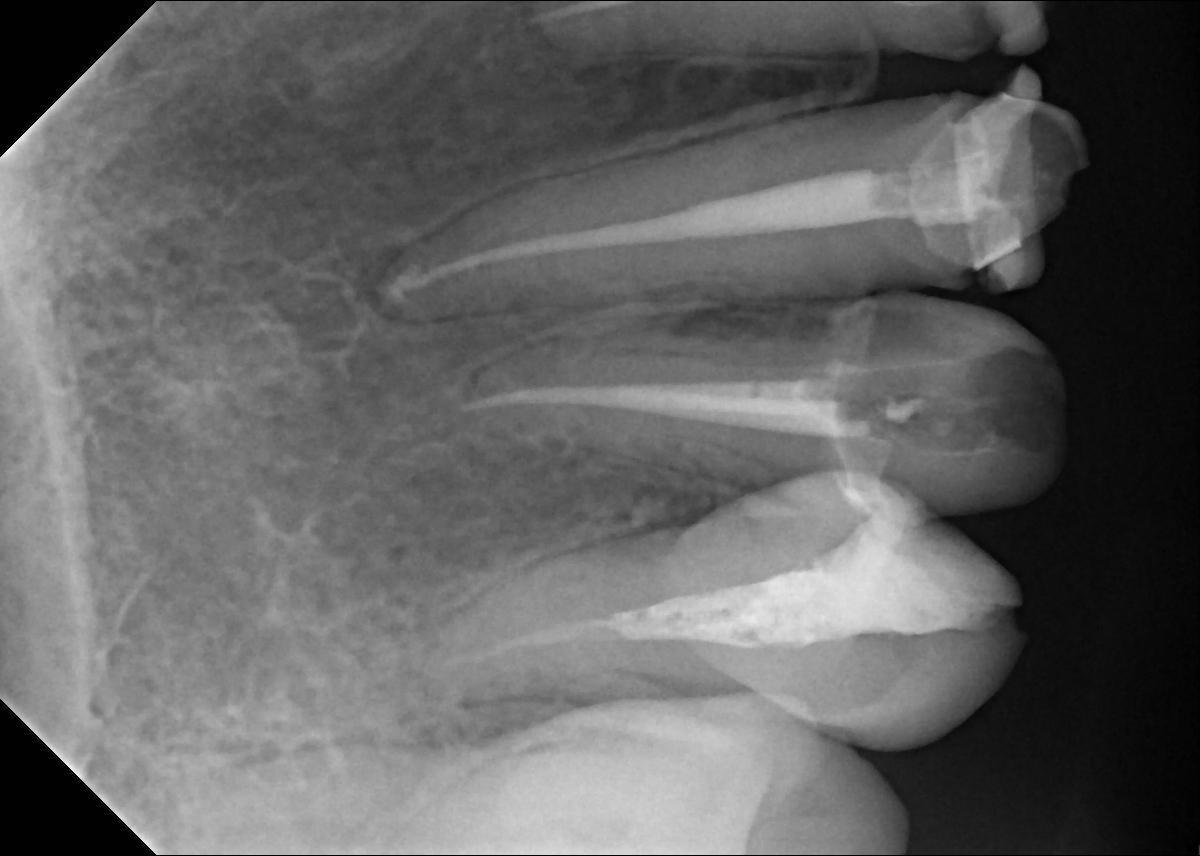Furcation Involvement: (356, 243, 431, 327)
